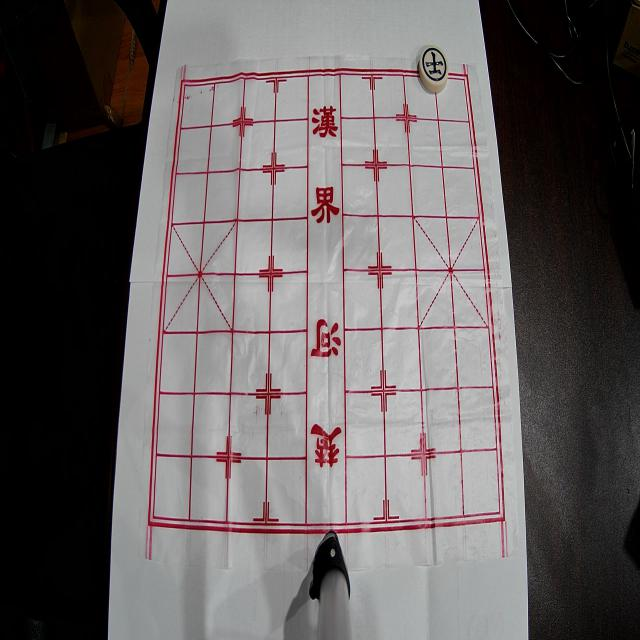black-guard: (419, 45, 449, 92)
